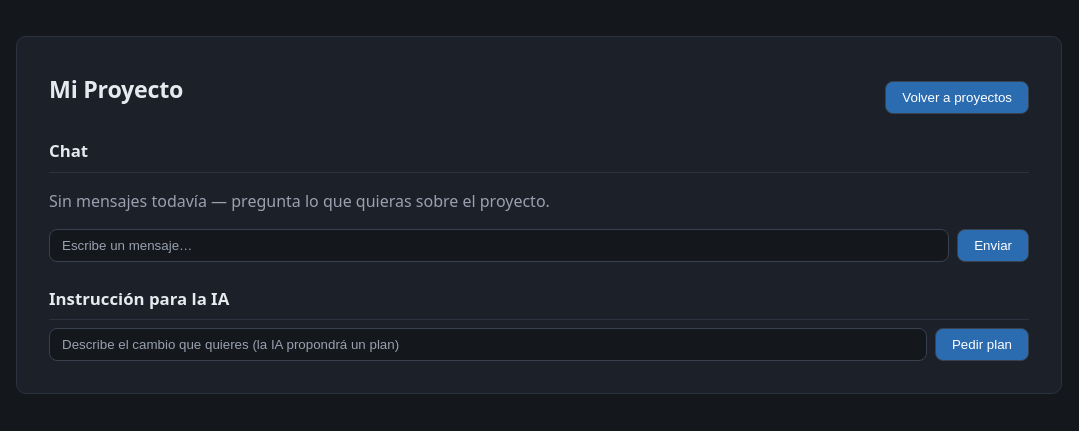
Test: VistaWorkspace › envía el chat y muestra la respuesta de la IA
The width and height of the screenshot is (1079, 431).
Type "¿cómo está?" into the field labelled "Escribe un mensaje…" at coordinates (499, 245), box [49, 228, 949, 262]
Then press Enter
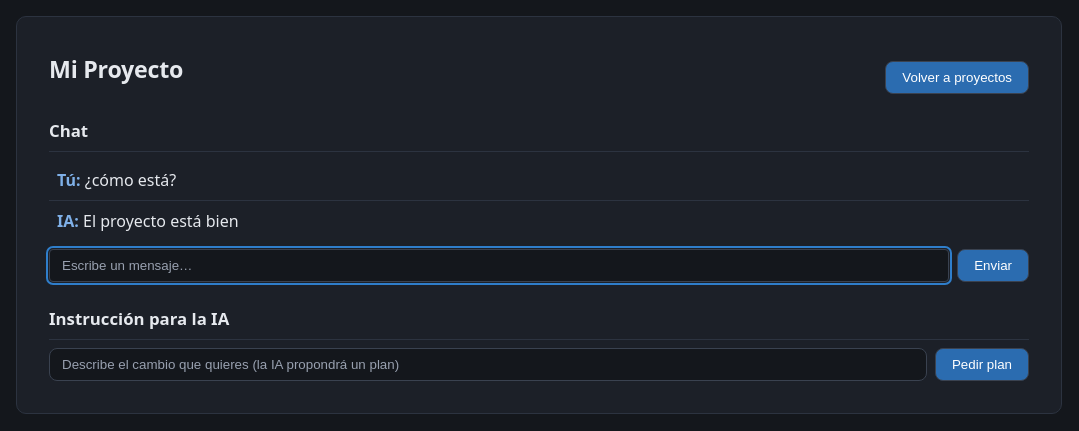
Check: the list item "El proyecto está bien" is shown, box [83, 210, 239, 232]
